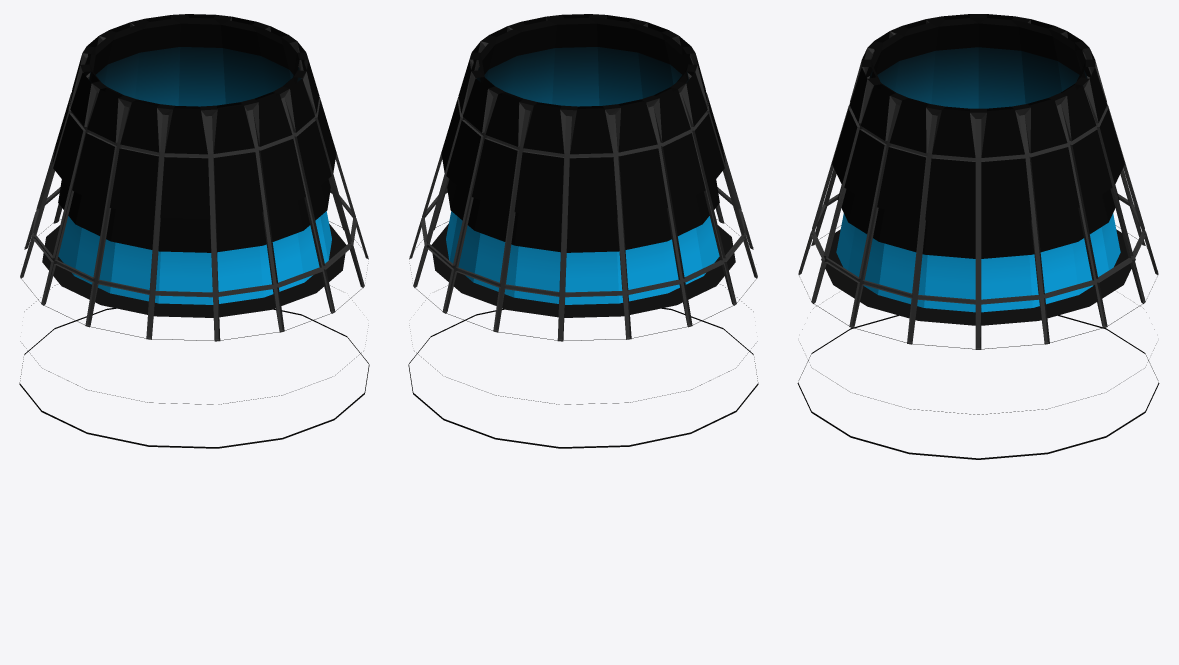
The model's file is PenSheQi_WeiPen_2X2X5_on2.FBX.
3 renders of one model, left to right at view 1: azimuth 30°, elevation 25°; view 2: azimuth 150°, elevation 25°; view 3: azimuth 270°, elevation 25°, orthographic. The views are drawn at different scales.
Visible parts, largest first — view 1: Box002; view 2: Box002; view 3: Box002.
Part boxes in pixels (x1,y1,x2,y2): Box002: [19, 14, 369, 448]; Box002: [408, 14, 758, 448]; Box002: [797, 14, 1159, 459].
Bounding box in the file's own units: 3.1 × 4.92 × 3.1.
